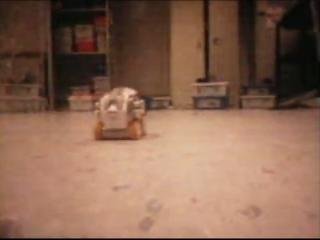cozmo: (92, 85, 148, 140)
